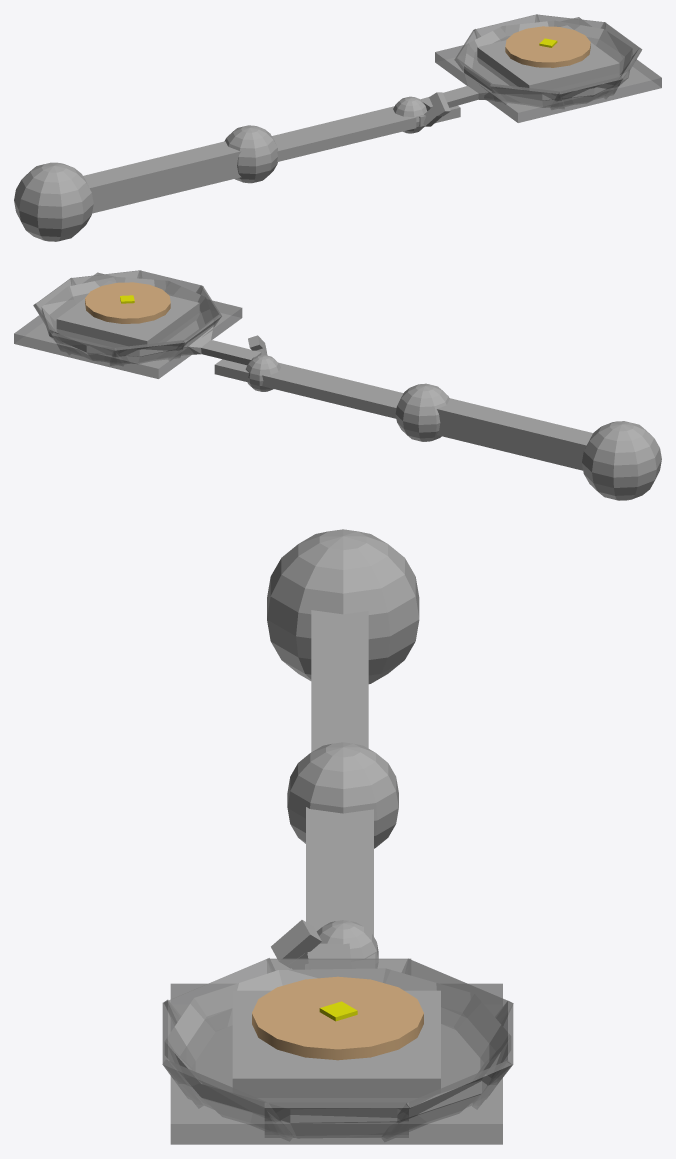
The model's file is ArmFlip_v01.fbx.
The picture shows the model from 3 angles, top to bottom: view 1: azimuth 30°, elevation 25°; view 2: azimuth 150°, elevation 25°; view 3: azimuth 270°, elevation 25°; orthographic projection. The views are drawn at different scales.
Parts seen in each view (by area): view 1: upperArm, pan, PanBounds1, Shoulder, panTrigger, forearm, Pancake, Elbow, PanBounds7, PanBounds8, PanBounds4, Wrist (+4 smaller); view 2: upperArm, pan, PanBounds1, Shoulder, panTrigger, forearm, Pancake, Elbow, Wrist, PanBounds5, PanBounds4, PanBounds8 (+4 smaller); view 3: pan, PanBounds1, Shoulder, panTrigger, Pancake, forearm, upperArm, Elbow, PanBounds5, PanBounds7, PanBounds6, PanBounds2 (+6 smaller).
Boxes of the visible parts, box(x1,y1,x2,y2) form: upperArm: box(83, 141, 241, 213); pan: box(421, 21, 632, 110); PanBounds1: box(435, 17, 661, 122); Shoulder: box(14, 162, 93, 241); panTrigger: box(477, 25, 619, 92); forearm: box(272, 106, 416, 161); Pancake: box(505, 26, 590, 67); Elbow: box(224, 125, 277, 183); PanBounds7: box(490, 83, 564, 107); PanBounds8: box(550, 77, 622, 108); PanBounds4: box(474, 14, 539, 40); Wrist: box(393, 96, 427, 133); upperArm: box(437, 398, 593, 470); pan: box(41, 277, 261, 365); PanBounds1: box(14, 272, 242, 378); Shoulder: box(582, 421, 661, 500); panTrigger: box(56, 281, 199, 348); forearm: box(262, 363, 403, 418); Pancake: box(85, 282, 170, 323); Elbow: box(395, 383, 449, 441); Wrist: box(245, 355, 280, 391); PanBounds5: box(110, 340, 184, 364); PanBounds4: box(52, 332, 124, 364); PanBounds8: box(137, 270, 203, 295); pan: box(165, 943, 510, 1137); PanBounds1: box(170, 983, 502, 1144); Shoulder: box(267, 529, 419, 684); panTrigger: box(232, 990, 440, 1102); Pancake: box(252, 976, 423, 1060); forearm: box(306, 807, 373, 936); upperArm: box(311, 610, 368, 751); Elbow: box(287, 742, 398, 848); PanBounds5: box(401, 958, 513, 1029); PanBounds7: box(164, 958, 275, 1031); PanBounds6: box(267, 958, 411, 983); PanBounds2: box(264, 1102, 408, 1134).
Bounding box in the file's own units: 21.87 × 2.66 × 5.51.
